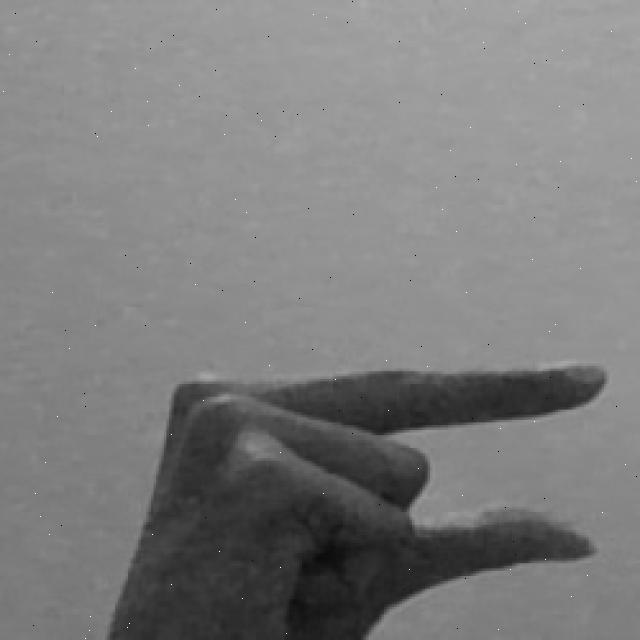G: (105, 358, 609, 640)
